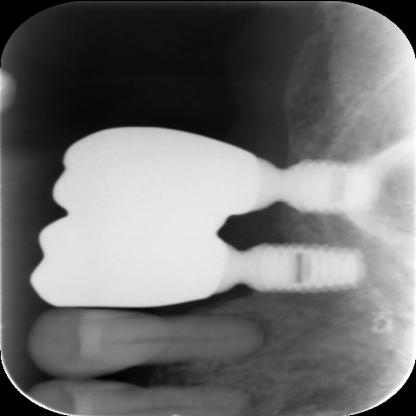Bicon: (244, 235, 366, 302), (268, 150, 372, 224)
